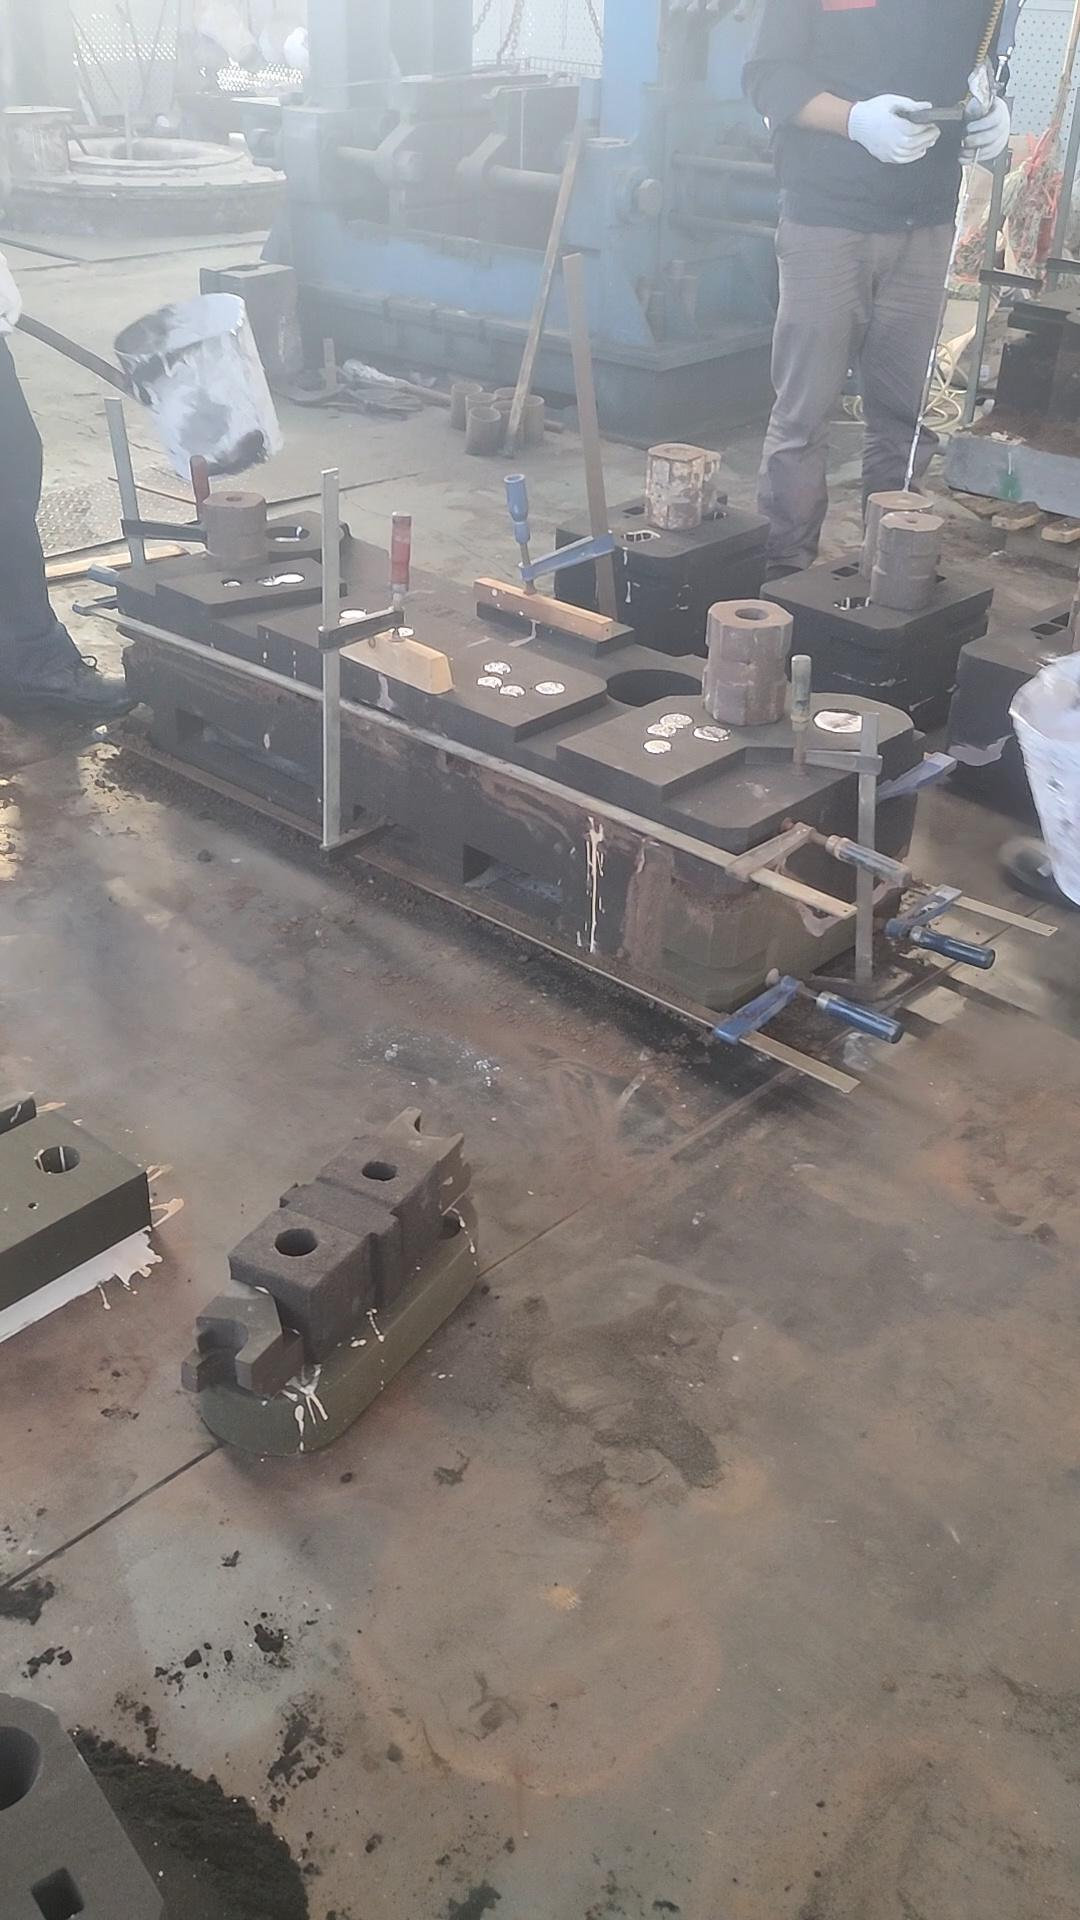pouring hole: (1, 1721, 47, 1812), (34, 1142, 80, 1176), (814, 707, 866, 735), (876, 533, 916, 560), (266, 524, 310, 543), (670, 473, 704, 498), (472, 406, 501, 423), (465, 392, 498, 404), (451, 380, 481, 392), (522, 393, 546, 407), (497, 385, 520, 397), (498, 400, 520, 411)
